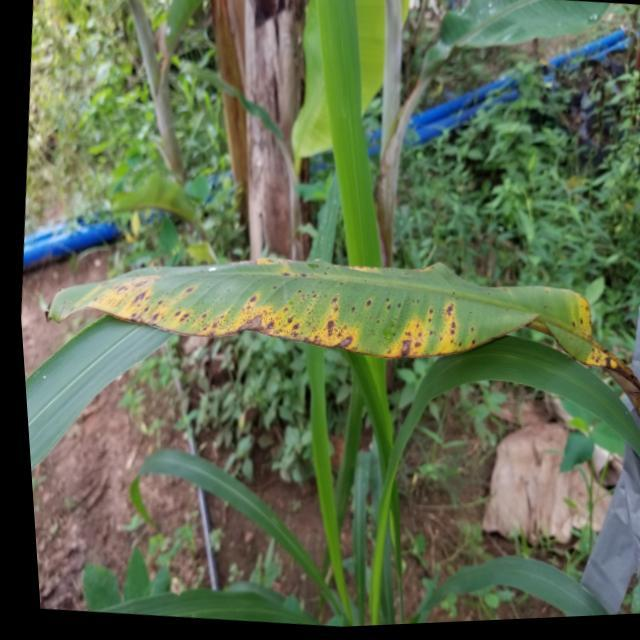Early_rust: (38, 228, 640, 404)
